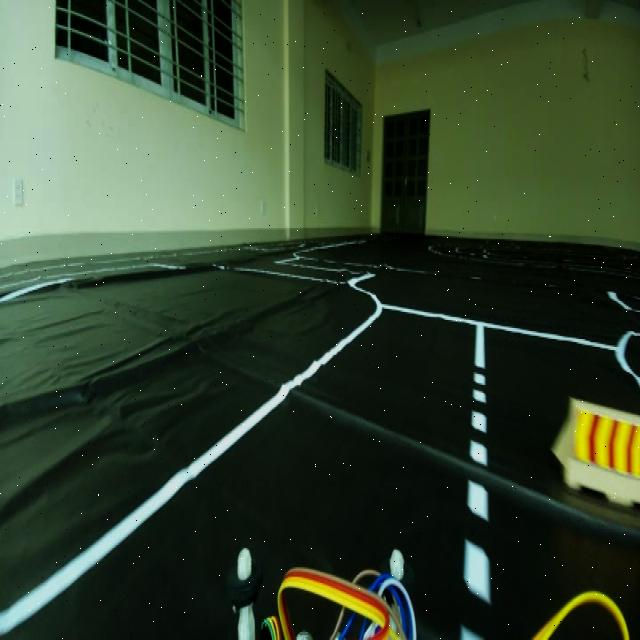roadblock: (551, 381, 640, 525)
